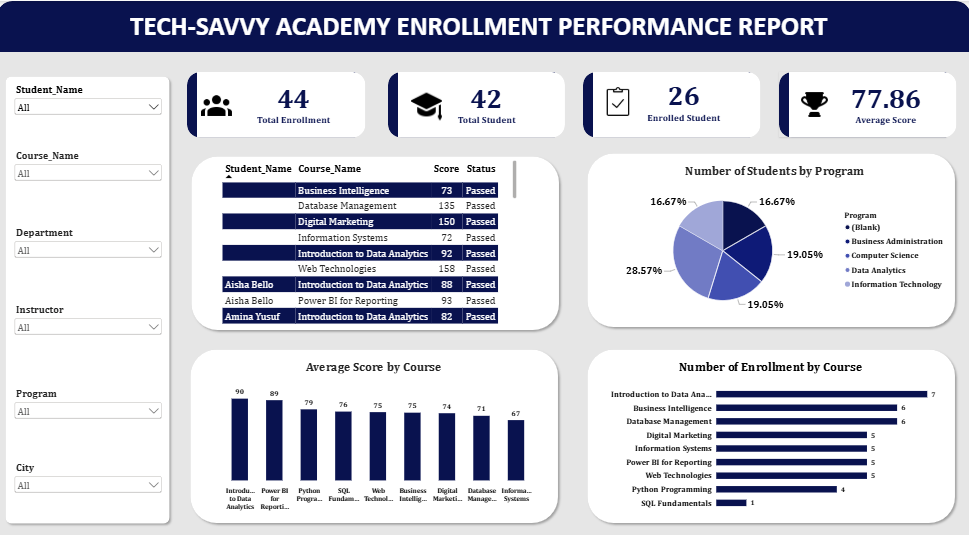

The dashboard page shown, as its layout file describes it:
{"tool":"powerbi","page":{"name":"Page 1","canvas":[1920,1080],"ordinal":0},"visuals":[{"type":"shape","box":[0,0,1919.6,151.8],"z":0},{"type":"group","id":"g1","title":"Group 1","box":[374.5,139.9,350,130],"z":0,"group":"g8"},{"type":"group","id":"g2","title":"Group 1","box":[770.6,139.9,349,130],"z":0,"group":"g7"},{"type":"group","id":"g3","title":"Group 1","box":[1154.9,139.9,350,130],"z":0,"group":"g6"},{"type":"group","id":"g4","title":"Group 1","box":[1541.2,139.9,350,130],"z":0,"group":"g5"},{"type":"shape","box":[374.5,140.7,332,129.1],"z":0,"group":"g1"},{"type":"shape","box":[770.6,140.7,329.1,129.1],"z":0,"group":"g2"},{"type":"shape","box":[1154.9,140.7,330.1,129.1],"z":0,"group":"g3"},{"type":"shape","box":[1541.2,140.7,330.1,129.1],"z":0,"group":"g4"},{"type":"shape","box":[0,100.5,1919.6,965.7],"z":1000},{"type":"shape","box":[393.5,139.9,332,129.1],"z":1000,"group":"g1"},{"type":"shape","box":[789.4,139.9,329.1,129.1],"z":1000,"group":"g2"},{"type":"shape","box":[1173.8,139.9,330.1,129.1],"z":1000,"group":"g3"},{"type":"shape","box":[1560.1,139.9,330.1,129.1],"z":1000,"group":"g4"},{"type":"cardVisual","fields":{"Data":["Enrollment.Enrolled Student"]},"box":[1237.7,143.8,232,108.4],"z":1000,"group":"g6"},{"type":"cardVisual","fields":{"Data":["Enrollment.Total Enrollment"]},"box":[466.1,144.2,239.5,119.2],"z":1000,"group":"g8"},{"type":"cardVisual","fields":{"Data":["Enrollment.Total Student"]},"box":[845.9,144.2,239.5,119.2],"z":1000,"group":"g7"},{"type":"cardVisual","fields":{"Data":["Enrollment.Average Score"]},"box":[1631,144.2,240.8,119.2],"z":1000,"group":"g5"},{"type":"textbox","box":[262.1,15.8,1385.5,84.7],"z":2000},{"type":"image","box":[1194.3,159.6,59,78],"z":2000,"group":"g6"},{"type":"image","box":[815.4,161.6,61,86.7],"z":2000,"group":"g7"},{"type":"image","box":[1580.2,161.7,61.1,85.8],"z":2000,"group":"g5"},{"type":"image","box":[401.1,163.9,60.9,85.8],"z":2000,"group":"g8"},{"type":"group","id":"g5","title":"Group 2","box":[1541.2,139.9,350.8,130.1],"z":3000},{"type":"group","id":"g6","title":"Group 3","box":[1154.9,139.9,350.8,130.1],"z":4000},{"type":"group","id":"g7","title":"Group 4","box":[770.6,139.9,350.8,130.1],"z":5000},{"type":"group","id":"g8","title":"Group 5","box":[374.5,139.9,350.8,130.1],"z":6000},{"type":"group","id":"g9","title":"Group 6","box":[374.5,297.6,742,361.5],"z":7000},{"type":"shape","box":[374.5,297.6,742,360],"z":7000,"group":"g9"},{"type":"shape","box":[1154.9,291.7,742,360],"z":8000},{"type":"tableEx","fields":{"Values":["Students.Student_Name","Courses.Course_Name","Sum(Enrollment.Score)","Enrollment.Status"]},"box":[426.8,300.4,612.9,358.7],"z":8000,"group":"g9"},{"type":"shape","box":[1154.9,678,742,360],"z":9000},{"type":"shape","box":[372.5,678,742,360],"z":10000},{"type":"pieChart","title":"Number of Students by Program","fields":{"Series":["Students.Program"],"Y":["Enrollment.Total Student"]},"box":[1174.6,305.5,715.4,331.1],"z":11000},{"type":"barChart","title":"Number of Enrollment by Course","fields":{"Category":["Courses.Course_Name"],"Y":["Enrollment.Total Enrollment"]},"box":[1182.5,691.8,683.9,331.1],"z":12000},{"type":"columnChart","title":"Average Score by Course","fields":{"Category":["Courses.Course_Name"],"Y":["Enrollment.Average Score"]},"box":[400.1,691.8,683.9,331.1],"z":13000},{"type":"shape","box":[7.9,139.9,340.9,898.7],"z":14000},{"type":"slicer","fields":{"Values":["Students.Student_Name"]},"box":[29.6,161.6,300.3,96.5],"z":15000},{"type":"slicer","fields":{"Values":["Courses.Course_Name"]},"box":[29.6,291.7,300.3,96.5],"z":16000},{"type":"slicer","fields":{"Values":["Courses.Department"]},"box":[29.6,443.4,300.3,96.5],"z":17000},{"type":"slicer","fields":{"Values":["Courses.Instructor"]},"box":[29.6,595.2,300.3,96.5],"z":18000},{"type":"slicer","fields":{"Values":["Students.Program"]},"box":[29.6,760.7,300.3,96.5],"z":19000},{"type":"slicer","fields":{"Values":["Students.City"]},"box":[29.6,906.6,300.3,96.5],"z":20000}]}

Visuals, with their boxes in screenshot pixels (x1, y1, x2, y2), scaled from the page's 1920x1080 canvas onto the 969x535 screenshot:
shape: {"left": 0, "top": 0, "right": 968, "bottom": 75}
"Group 1" group: {"left": 189, "top": 69, "right": 366, "bottom": 134}
"Group 1" group: {"left": 389, "top": 69, "right": 565, "bottom": 134}
"Group 1" group: {"left": 583, "top": 69, "right": 760, "bottom": 134}
"Group 1" group: {"left": 778, "top": 69, "right": 954, "bottom": 134}
shape: {"left": 189, "top": 70, "right": 357, "bottom": 134}
shape: {"left": 389, "top": 70, "right": 555, "bottom": 134}
shape: {"left": 583, "top": 70, "right": 749, "bottom": 134}
shape: {"left": 778, "top": 70, "right": 944, "bottom": 134}
shape: {"left": 0, "top": 50, "right": 968, "bottom": 528}
shape: {"left": 199, "top": 69, "right": 366, "bottom": 133}
shape: {"left": 398, "top": 69, "right": 564, "bottom": 133}
shape: {"left": 592, "top": 69, "right": 759, "bottom": 133}
shape: {"left": 787, "top": 69, "right": 954, "bottom": 133}
cardVisual - Enrollment.Enrolled Student: {"left": 625, "top": 71, "right": 742, "bottom": 125}
cardVisual - Enrollment.Total Enrollment: {"left": 235, "top": 71, "right": 356, "bottom": 130}
cardVisual - Enrollment.Total Student: {"left": 427, "top": 71, "right": 548, "bottom": 130}
cardVisual - Enrollment.Average Score: {"left": 823, "top": 71, "right": 945, "bottom": 130}
textbox: {"left": 132, "top": 8, "right": 832, "bottom": 50}
image: {"left": 603, "top": 79, "right": 633, "bottom": 118}
image: {"left": 412, "top": 80, "right": 442, "bottom": 123}
image: {"left": 798, "top": 80, "right": 828, "bottom": 123}
image: {"left": 202, "top": 81, "right": 233, "bottom": 124}
"Group 2" group: {"left": 778, "top": 69, "right": 955, "bottom": 134}
"Group 3" group: {"left": 583, "top": 69, "right": 760, "bottom": 134}
"Group 4" group: {"left": 389, "top": 69, "right": 566, "bottom": 134}
"Group 5" group: {"left": 189, "top": 69, "right": 366, "bottom": 134}
"Group 6" group: {"left": 189, "top": 147, "right": 563, "bottom": 326}
shape: {"left": 189, "top": 147, "right": 563, "bottom": 326}
shape: {"left": 583, "top": 144, "right": 957, "bottom": 323}
tableEx - Students.Student_Name x Courses.Course_Name: {"left": 215, "top": 149, "right": 525, "bottom": 326}
shape: {"left": 583, "top": 336, "right": 957, "bottom": 514}
shape: {"left": 188, "top": 336, "right": 562, "bottom": 514}
"Number of Students by Program" pieChart: {"left": 593, "top": 151, "right": 954, "bottom": 315}
"Number of Enrollment by Course" barChart: {"left": 597, "top": 343, "right": 942, "bottom": 507}
"Average Score by Course" columnChart: {"left": 202, "top": 343, "right": 547, "bottom": 507}
shape: {"left": 4, "top": 69, "right": 176, "bottom": 514}
slicer - Students.Student_Name: {"left": 15, "top": 80, "right": 166, "bottom": 128}
slicer - Courses.Course_Name: {"left": 15, "top": 144, "right": 166, "bottom": 192}
slicer - Courses.Department: {"left": 15, "top": 220, "right": 166, "bottom": 267}
slicer - Courses.Instructor: {"left": 15, "top": 295, "right": 166, "bottom": 343}
slicer - Students.Program: {"left": 15, "top": 377, "right": 166, "bottom": 425}
slicer - Students.City: {"left": 15, "top": 449, "right": 166, "bottom": 497}
